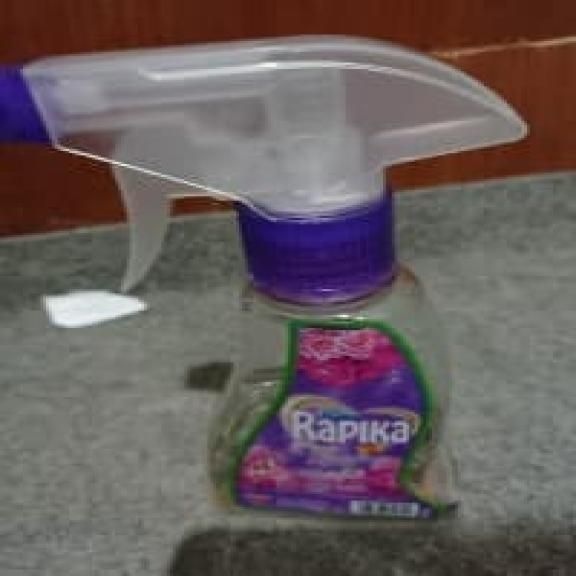Plastik: (1, 46, 520, 548)
